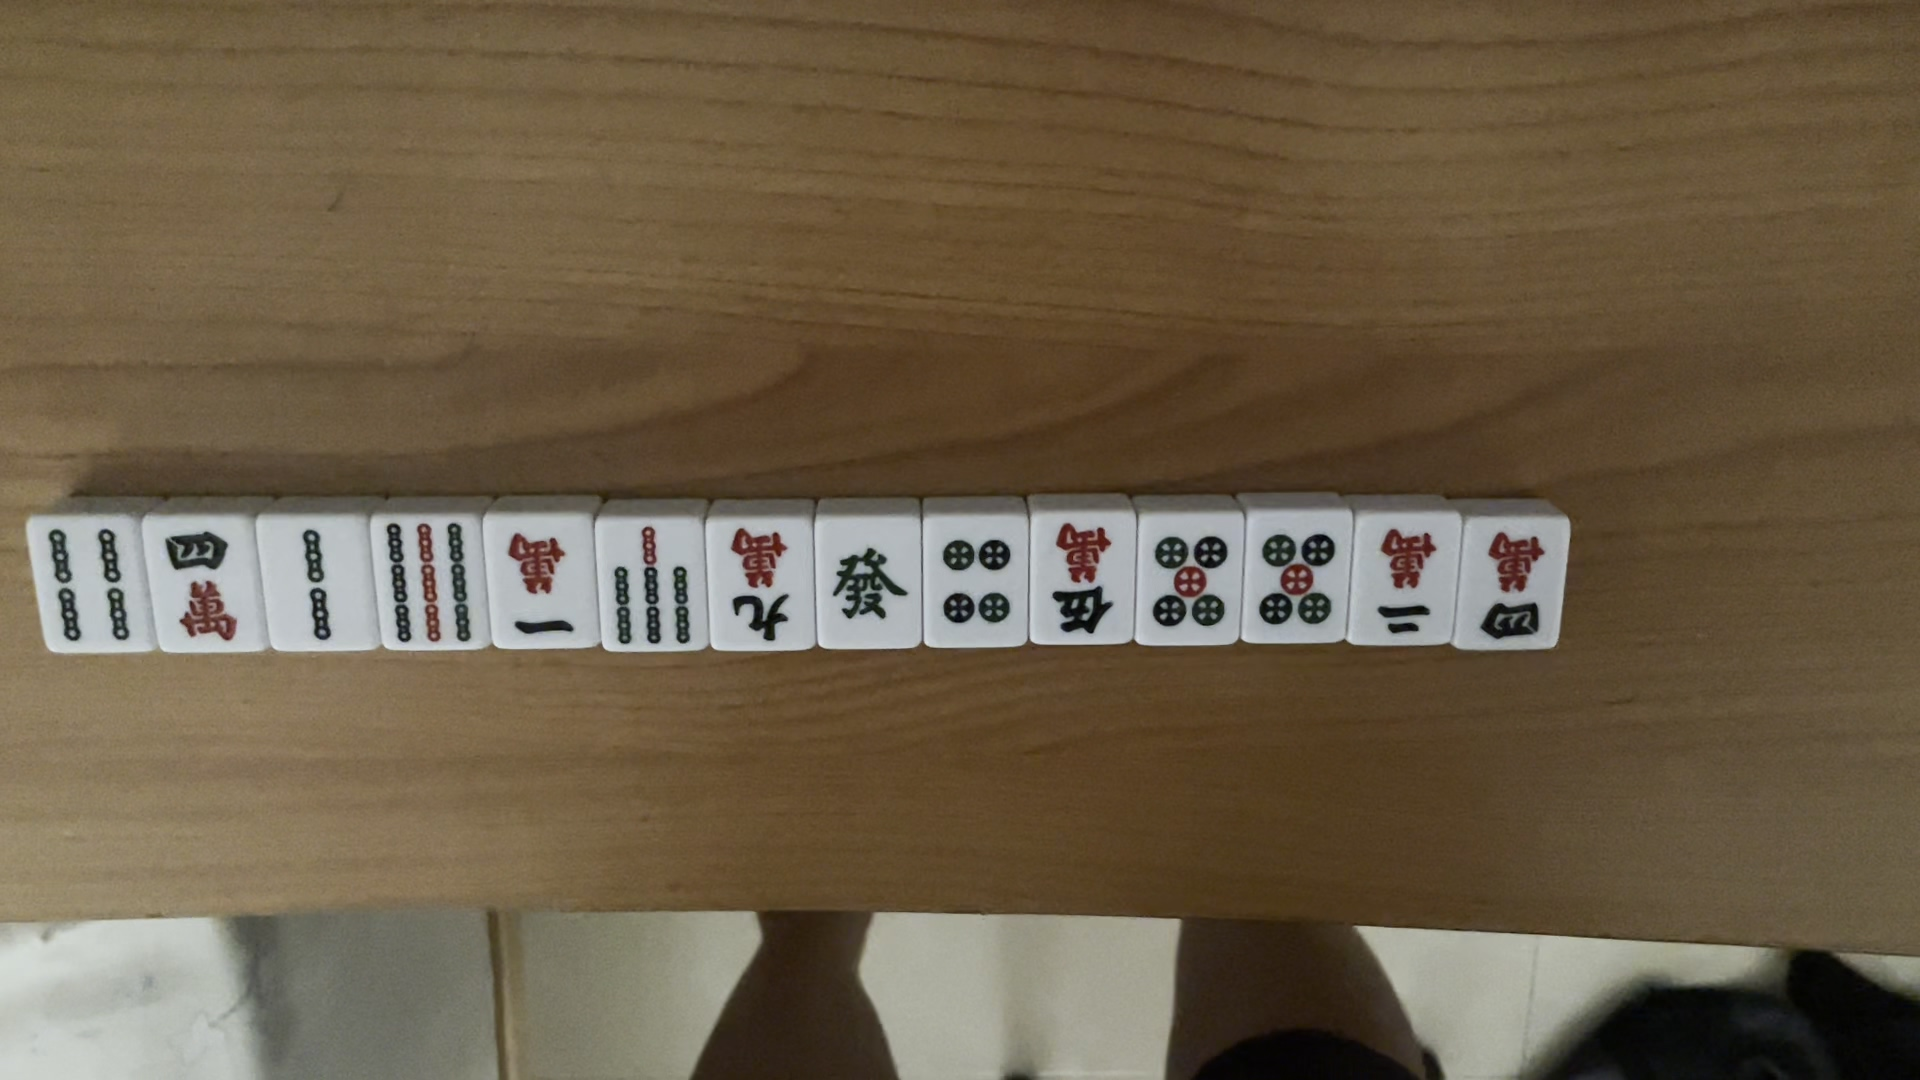b-2: (277, 527, 361, 644)
b-4: (42, 520, 136, 647)
b-7: (609, 524, 694, 647)
b-9: (384, 518, 471, 646)
c-1: (502, 525, 582, 638)
c-2: (1367, 527, 1447, 638)
c-4: (156, 525, 248, 641), (1480, 527, 1547, 644)
c-5: (1048, 518, 1120, 634)
c-9: (725, 521, 799, 644)
d-4: (939, 530, 1015, 636)
d-5: (1255, 530, 1341, 633), (1149, 533, 1232, 632)
honors-green: (825, 541, 909, 624)
